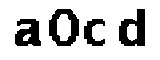0: (48, 5, 80, 50)
a: (11, 17, 43, 49)
c: (82, 16, 107, 49)
d: (117, 7, 151, 50)
